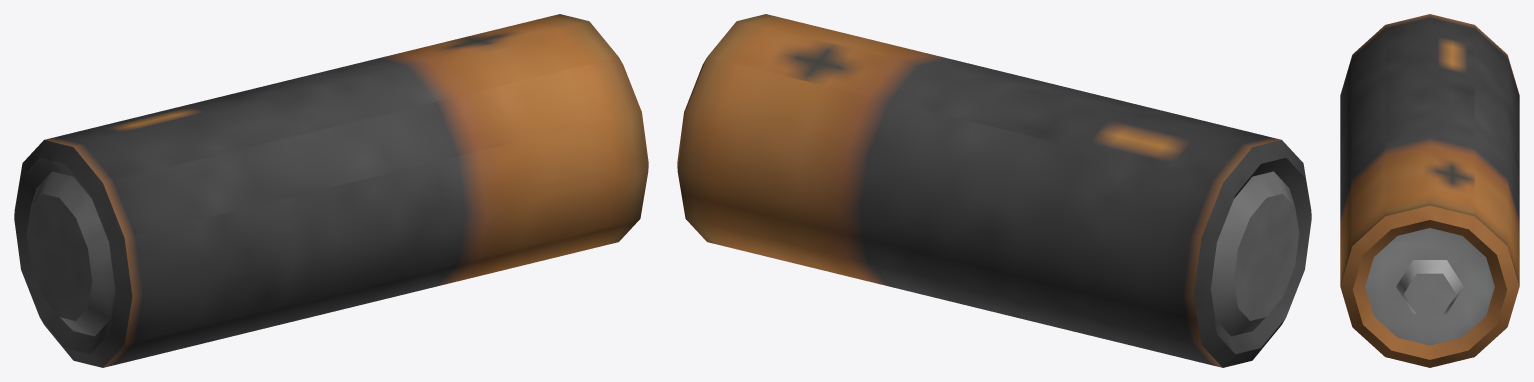
Rendered from battery_mp_1.obj.
3 views of the same model, side by side, from view 1: azimuth 30°, elevation 25°; view 2: azimuth 150°, elevation 25°; view 3: azimuth 270°, elevation 25° (orthographic). The views are drawn at different scales.
Visible parts, largest first — view 1: battery_mp_1; view 2: battery_mp_1; view 3: battery_mp_1.
Boxes of the visible parts, x1,y1,x2,y2 form: battery_mp_1: (14, 14, 648, 367); battery_mp_1: (677, 14, 1311, 367); battery_mp_1: (1340, 14, 1519, 367).
Size of the model in its own units: 0.097 by 0.036 by 0.036.
